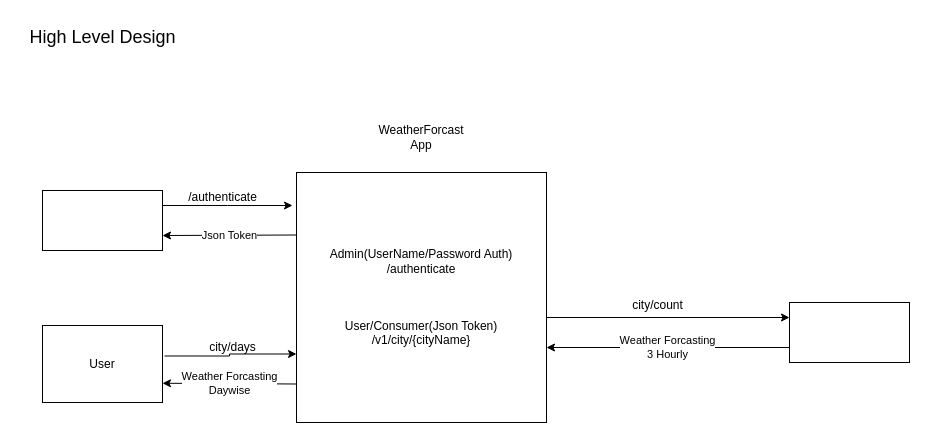
This 927x440 diagram has some shape labels left out. The centre of each missing label's shape, as x and y in pixels:
"Admin" goes at pixel 102 220.
"Open Weather API" goes at pixel 849 332.
